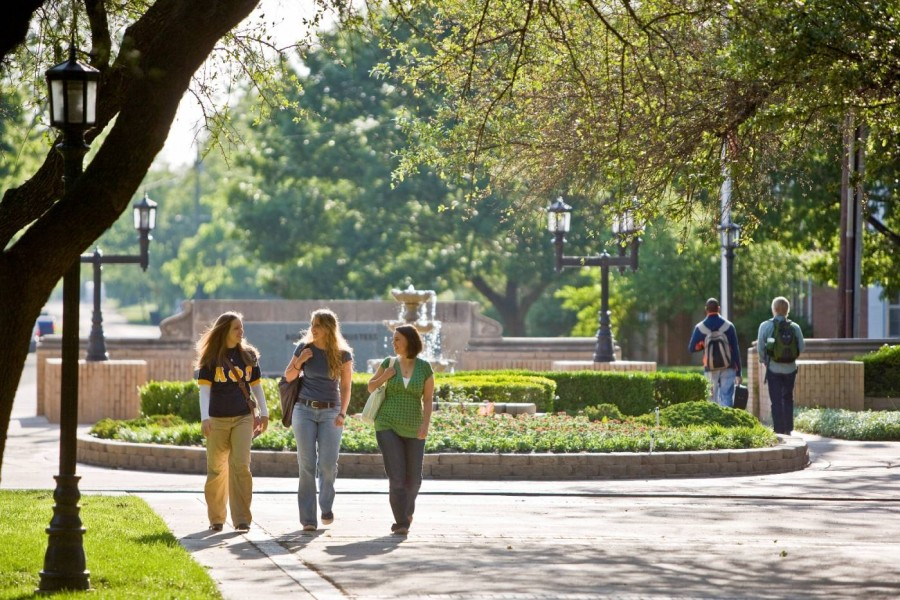Person: (197, 311, 269, 534), (284, 308, 354, 532), (367, 325, 435, 533), (757, 296, 807, 435), (688, 297, 740, 408)
